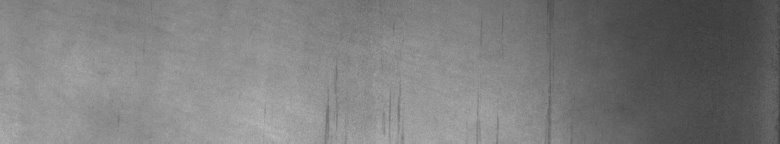ka: (321, 69, 400, 136)
